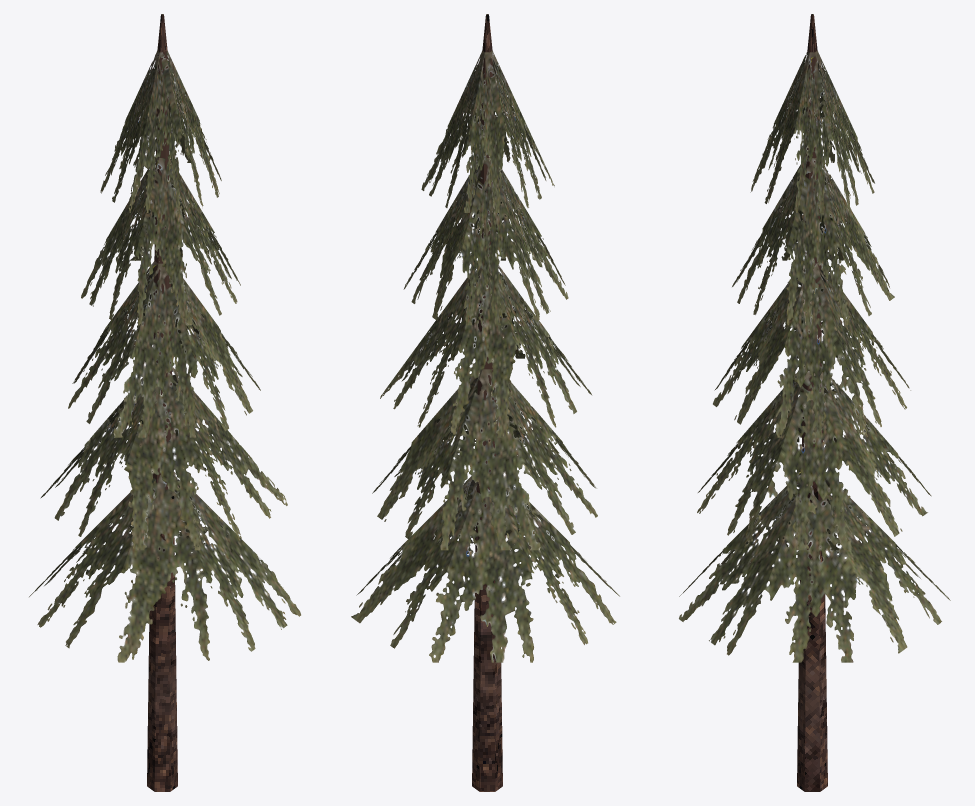
File: pinetree.fbx
3 renders of one model, left to right at view 1: azimuth 30°, elevation 25°; view 2: azimuth 150°, elevation 25°; view 3: azimuth 270°, elevation 25°, orthographic.
Visible parts, largest first — view 1: Cylinder; view 2: Cylinder; view 3: Cylinder.
Boxes of the visible parts, left/top/right/bottom form: Cylinder: left=29, top=14, right=300, bottom=791; Cylinder: left=351, top=14, right=619, bottom=791; Cylinder: left=679, top=14, right=950, bottom=791.
Size of the model in its own units: 1656 by 5486 by 1912.
